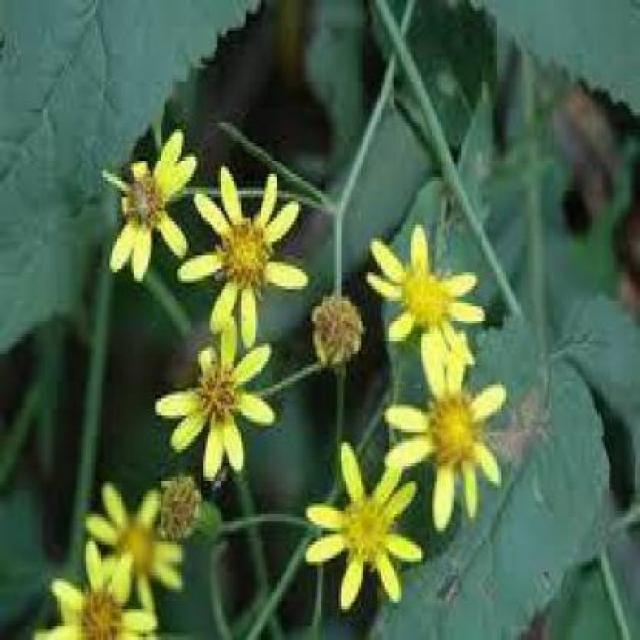flower: (292, 434, 443, 615), (382, 338, 516, 530), (182, 162, 310, 349), (353, 218, 495, 372), (148, 323, 277, 480), (68, 458, 190, 594), (104, 142, 204, 270), (30, 565, 155, 637)
